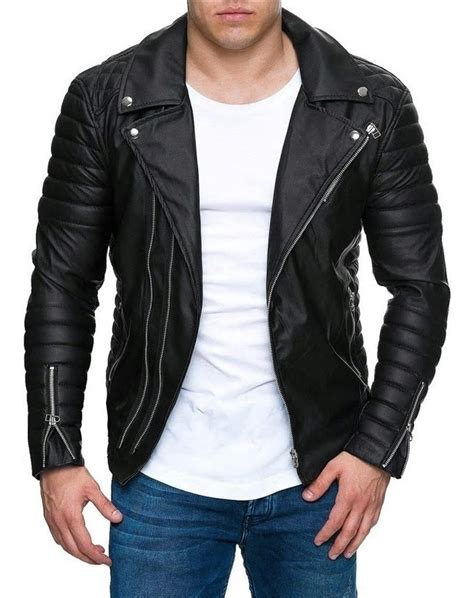cuero: (23, 4, 452, 486)
